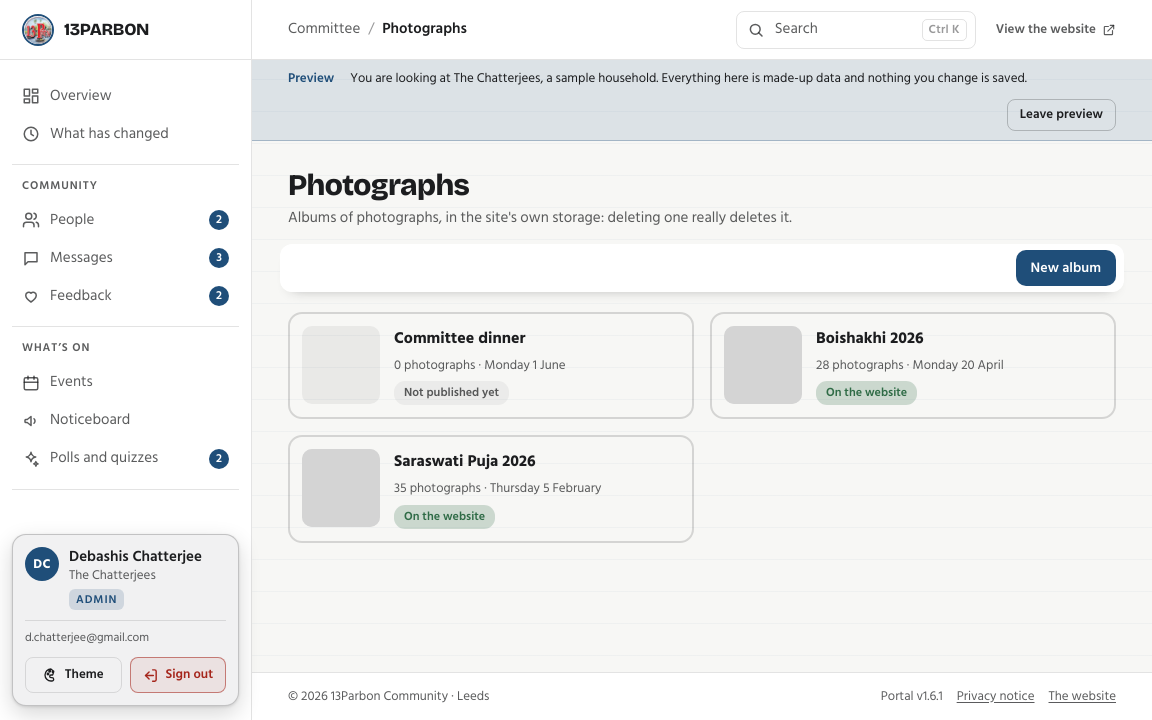
it: the albums › makes a new album, kept off the website until it is published
The image size is (1152, 720).
Click the button "New album". click: (1066, 268)
box: [1016,250,1116,286]
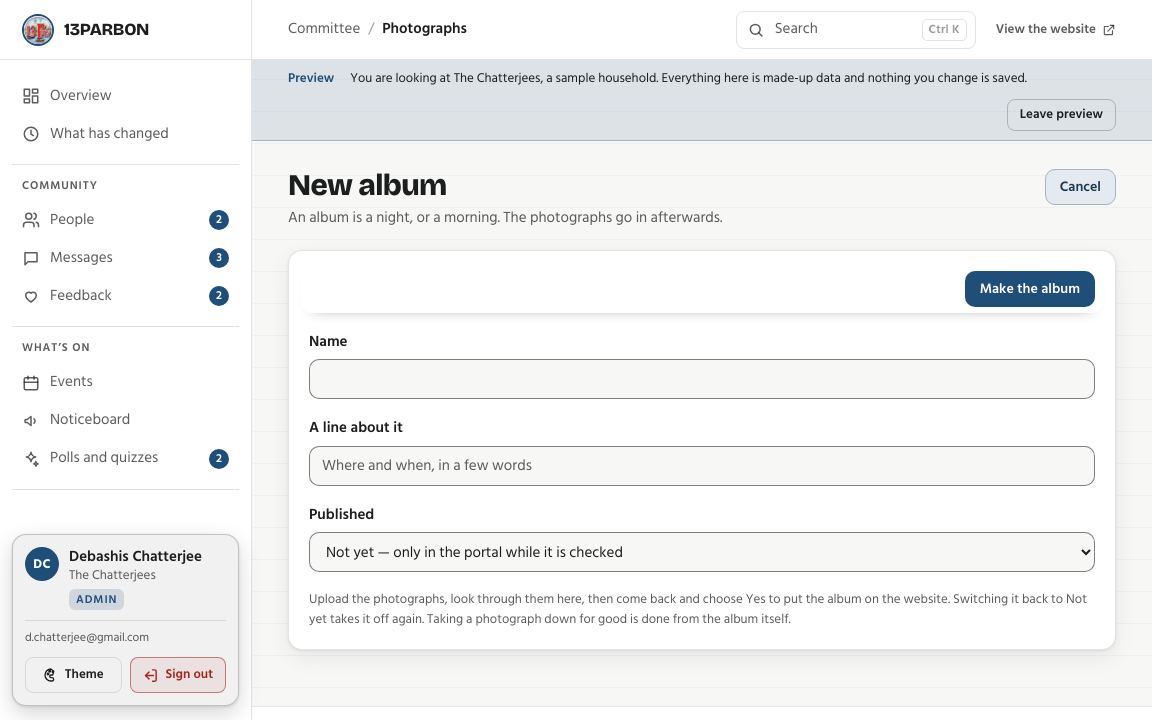
Type "Holi 2027" into the field labelled "Name". click: (702, 379)
box: [309,359,1095,399]
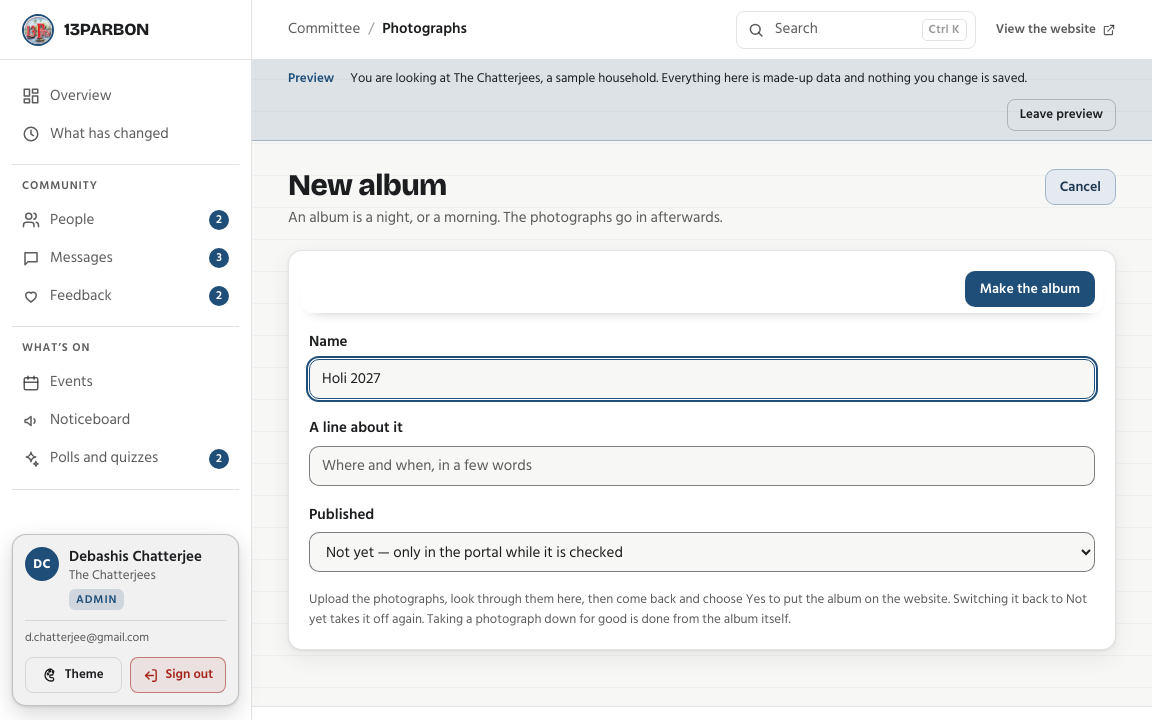
Check: the dropdown labelled "Published" shows "Not yet — only in the portal while it is checked", box [309,532,1095,572]
Click the button "Make the album". click: (1030, 289)
box: [965,271,1095,307]
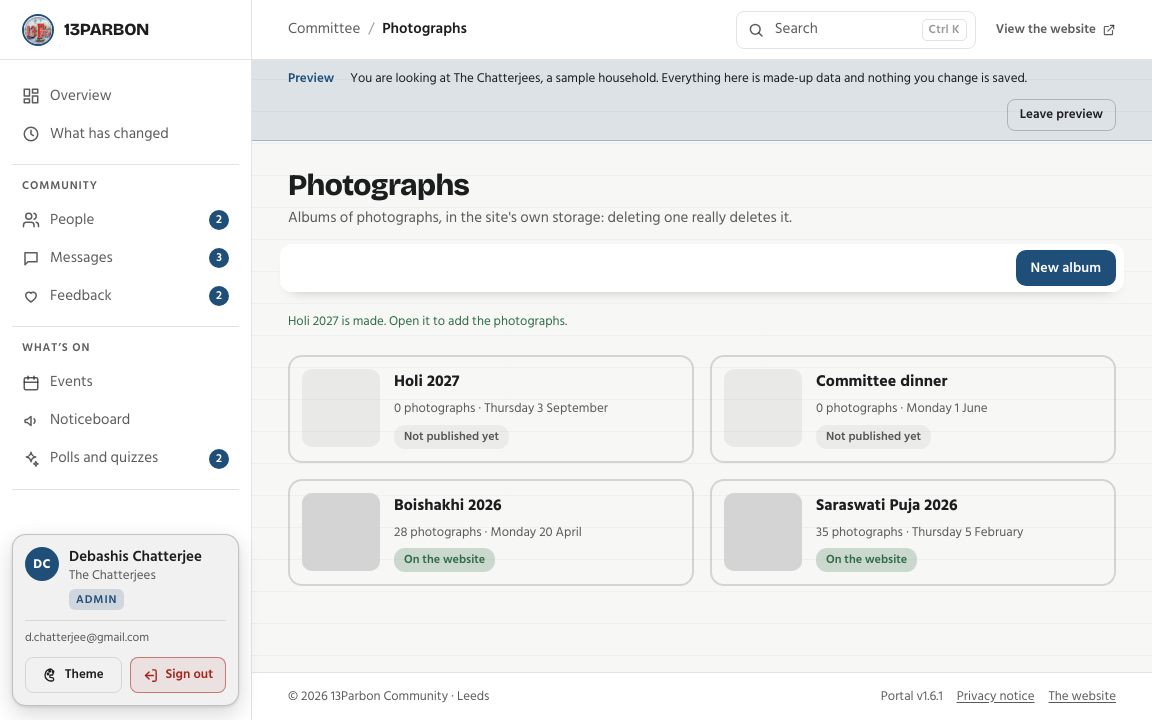
Check: the text "Holi 2027" is shown, box [394,369,459,393]
Check: the text "Not published yet" is shown 2 times, box [394,425,509,449]; [816,425,931,449]
